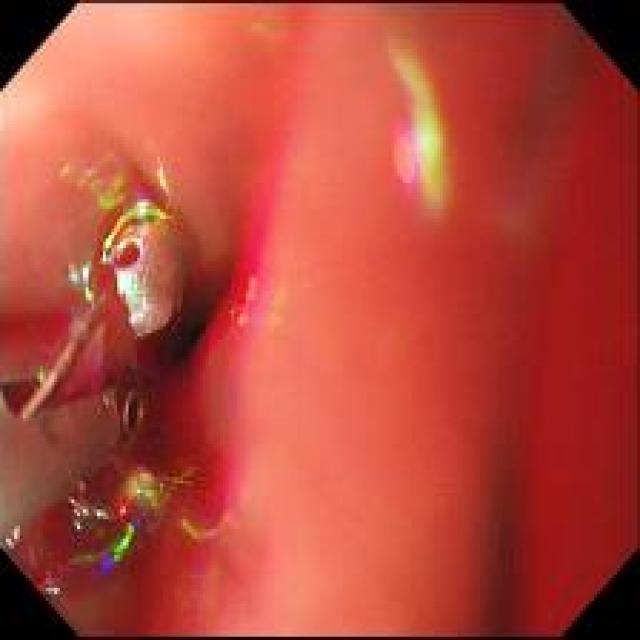color misalignment: (1, 204, 188, 434), (389, 42, 445, 209), (179, 435, 250, 541), (62, 165, 174, 230), (242, 190, 278, 340), (115, 465, 194, 519), (103, 520, 142, 571), (158, 164, 171, 198), (69, 270, 80, 287), (37, 368, 49, 383)
instrument: (1, 376, 159, 549)
specularity: (126, 271, 157, 335), (118, 271, 129, 291)
